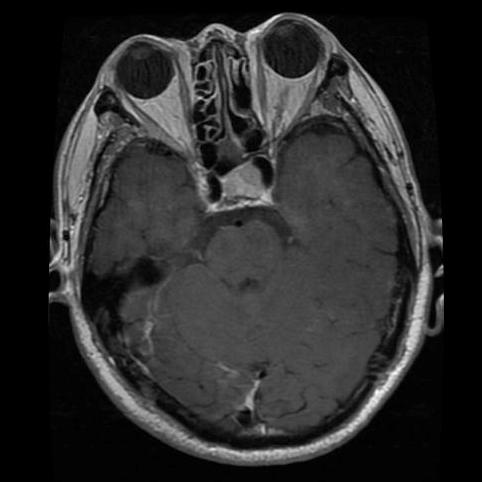Tumour-Pituitary: (194, 165, 282, 211)
